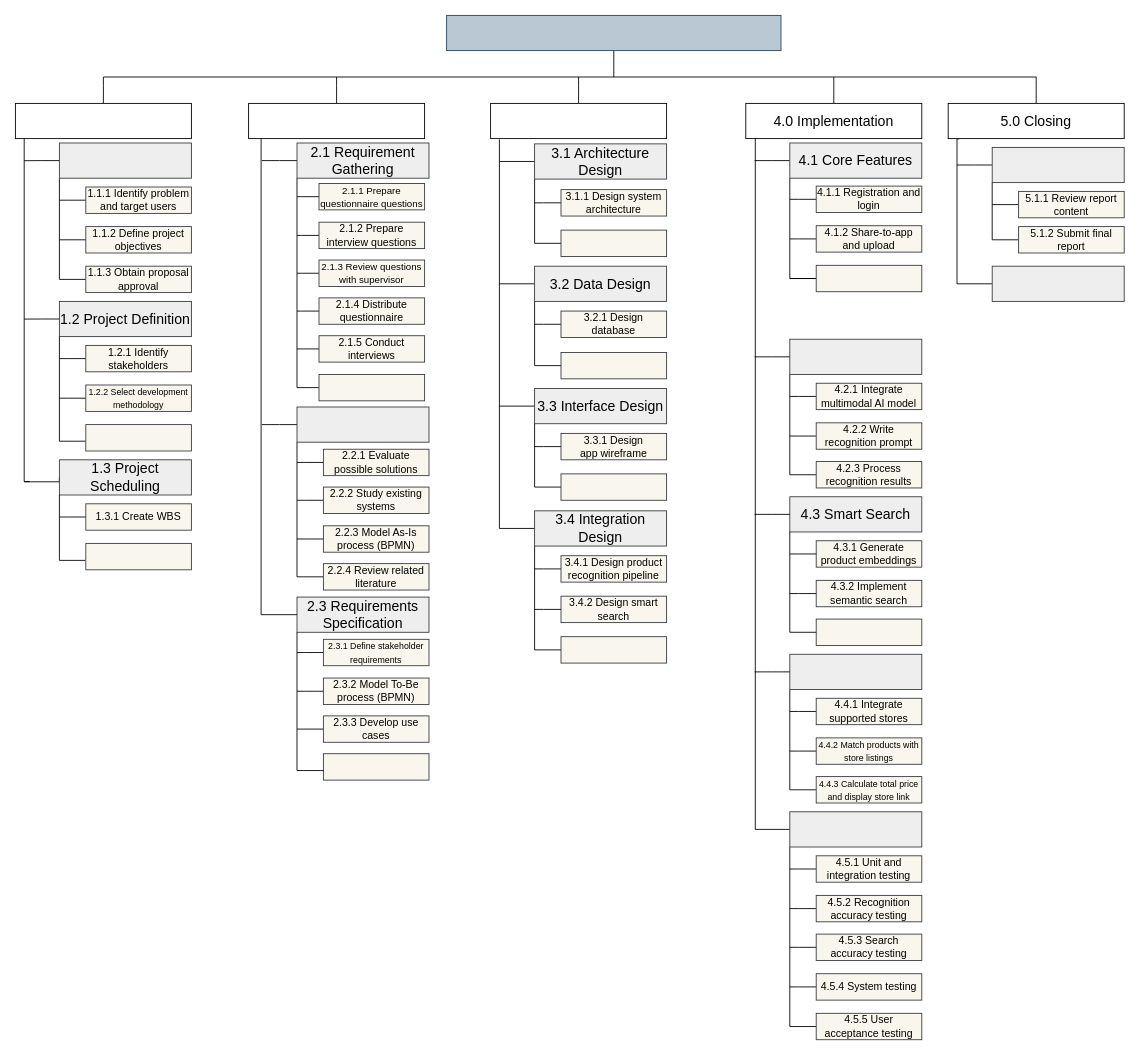
Image size: 1140x1055. Some labels were removed from this diagram. The centre of each missing label's shape, as x and y in pixels:
1.0 Planning: (x=103, y=121)
1.1 Project Initiation: (x=125, y=160)
1.2.3 Define scope and deliverables: (x=138, y=437)
1.3.2 Create Gantt chart: (x=138, y=556)
2.0 Analysis: (x=336, y=121)
2.1.6 Analyze gathered results: (x=371, y=387)
2.2 Background Study: (x=362, y=424)
2.3.4 Define non-functional requirements: (x=376, y=766)
3.0 Design: (x=578, y=121)
3.1.2 Select tools and AI model: (x=613, y=243)
3.2.2 Design data flow: (x=613, y=365)
3.3.2 Build interface prototype: (x=613, y=486)
3.4.3 Design store price retrieval: (x=613, y=649)
4.1.3 Shopping lists and notes: (x=868, y=278)
4.2 Product Recognition: (x=855, y=356)
4.3.3 Add keyword search fallback: (x=868, y=631)
4.4 Best Price Retrieval: (x=855, y=671)
4.5 Testing: (x=855, y=829)
5.1 Report Finalization: (x=1057, y=165)
5.2 Project Presentation: (x=1057, y=283)
PicBuy: (x=613, y=33)
